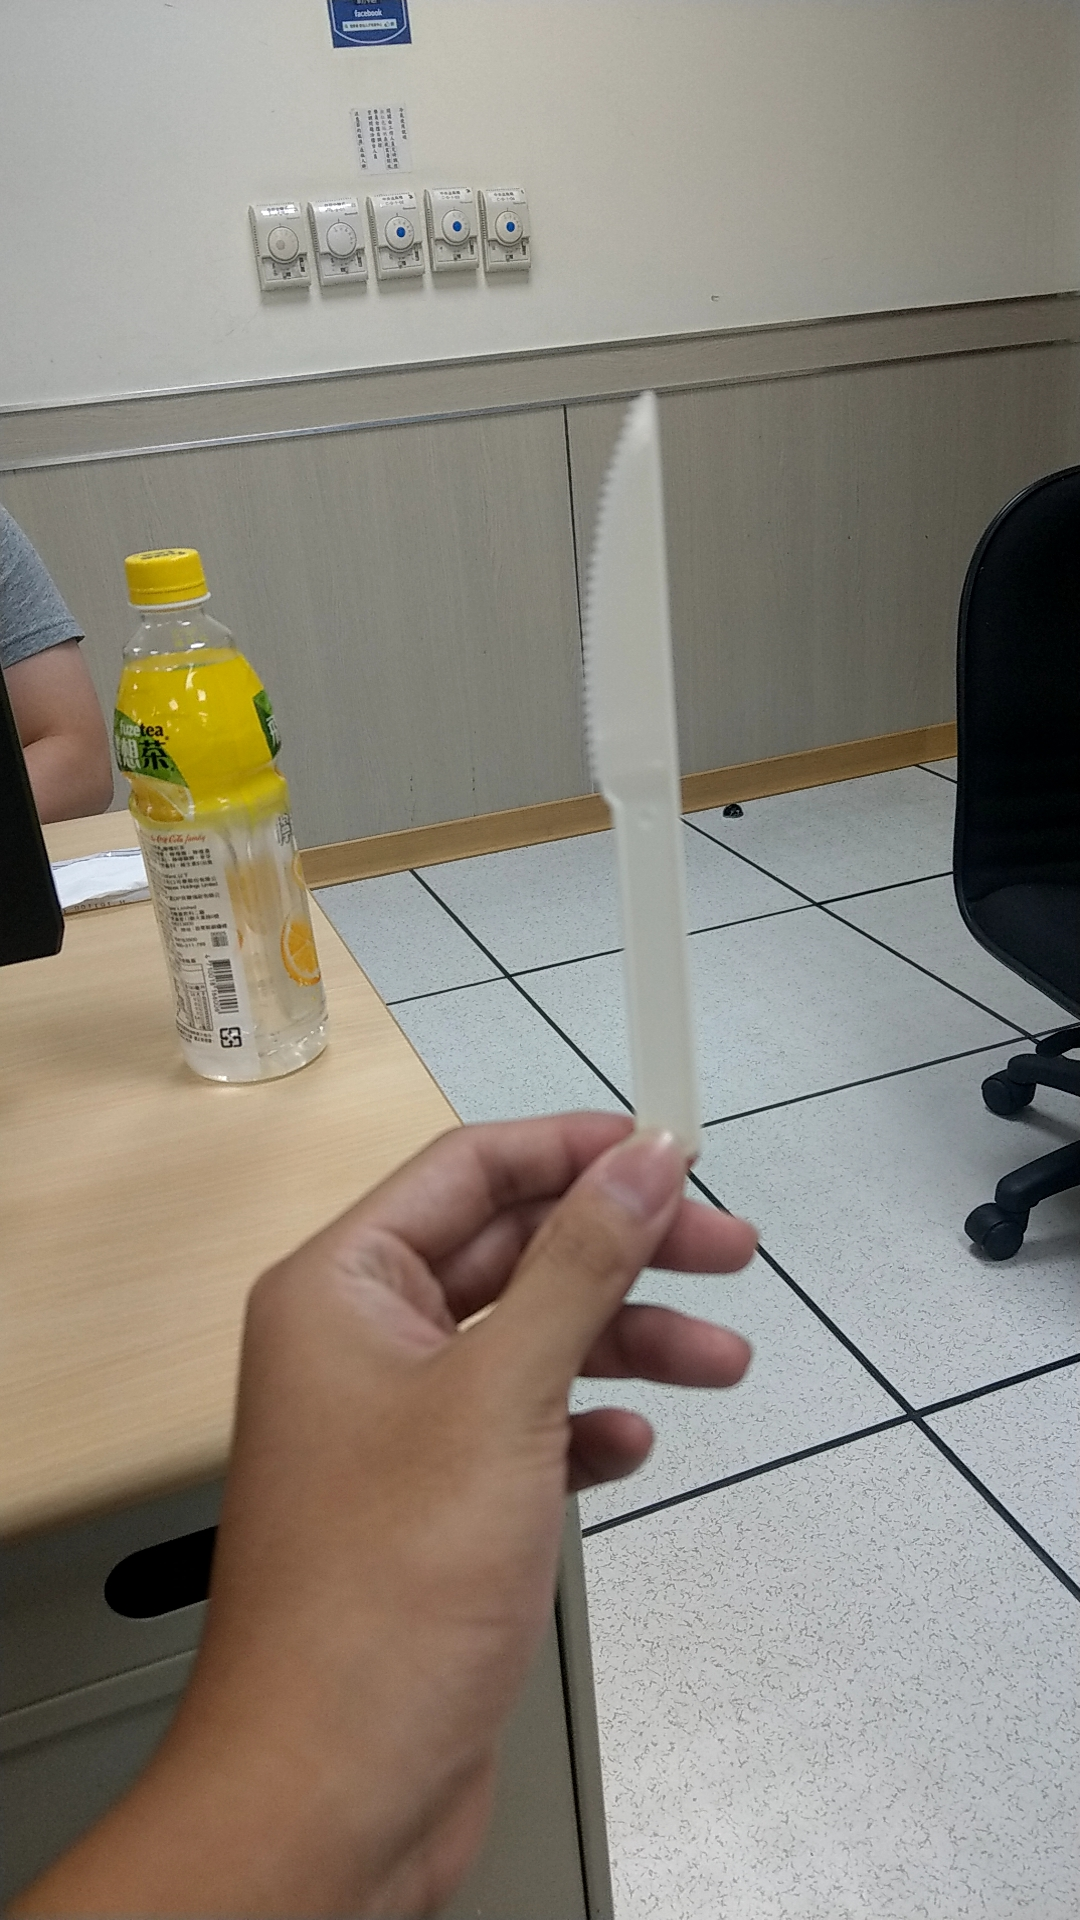knife: (550, 364, 750, 1135)
